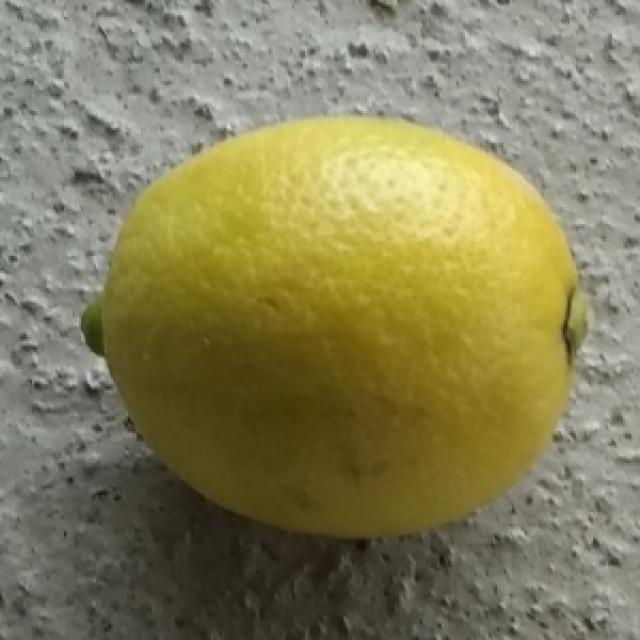Lemon: (78, 112, 594, 546)
